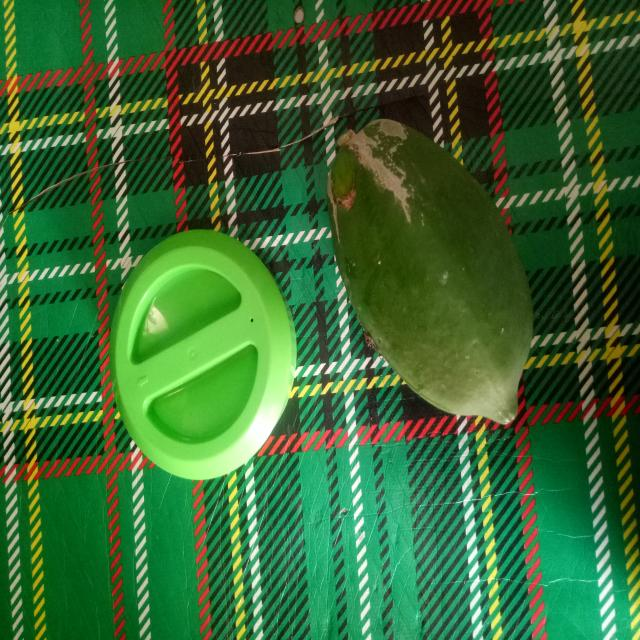Pepaya unrippen: (319, 108, 546, 439)
